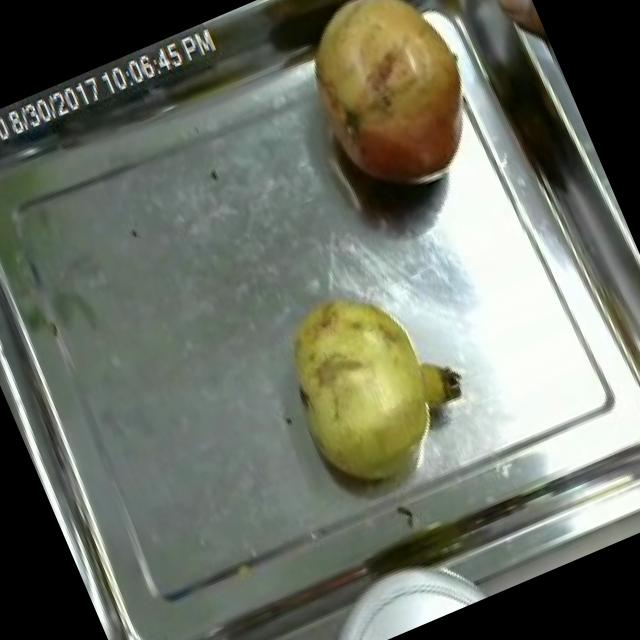fruit: (252, 254, 488, 511), (276, 0, 510, 221), (482, 0, 554, 66)
